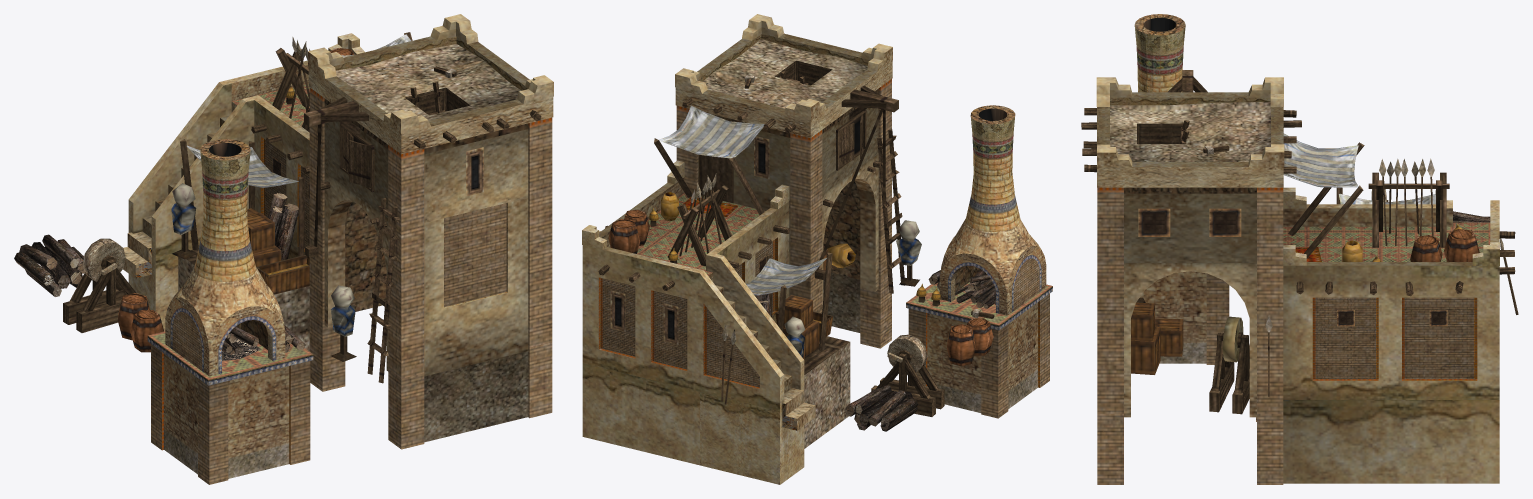
Rendered from s_persians_blacksmith.glb.
3 views of the same model, side by side, from view 1: azimuth 30°, elevation 25°; view 2: azimuth 150°, elevation 25°; view 3: azimuth 270°, elevation 25° (orthographic). The views are drawn at different scales.
Parts seen in each view (by area): view 1: s_persians_blacksmith_part0, s_persians_blacksmith_part1; view 2: s_persians_blacksmith_part0, s_persians_blacksmith_part1; view 3: s_persians_blacksmith_part0.
Part boxes in pixels (x1,y1,x2,y2): s_persians_blacksmith_part0: (63,14,553,484); s_persians_blacksmith_part1: (14,193,305,360); s_persians_blacksmith_part0: (582,14,1052,484); s_persians_blacksmith_part1: (754,270,995,431); s_persians_blacksmith_part0: (1081,14,1518,484).
Bounding box in the file's own units: 4.04 × 3.53 × 4.2.
4 materials, 4 textured.
